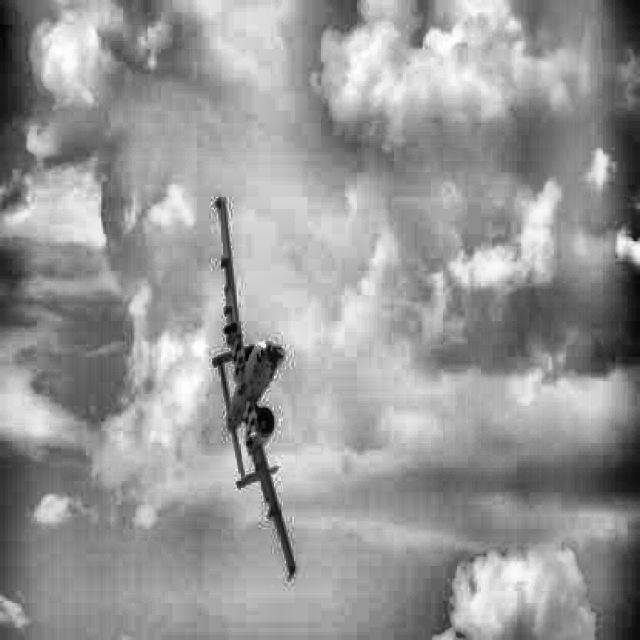A10: (212, 196, 297, 581)
